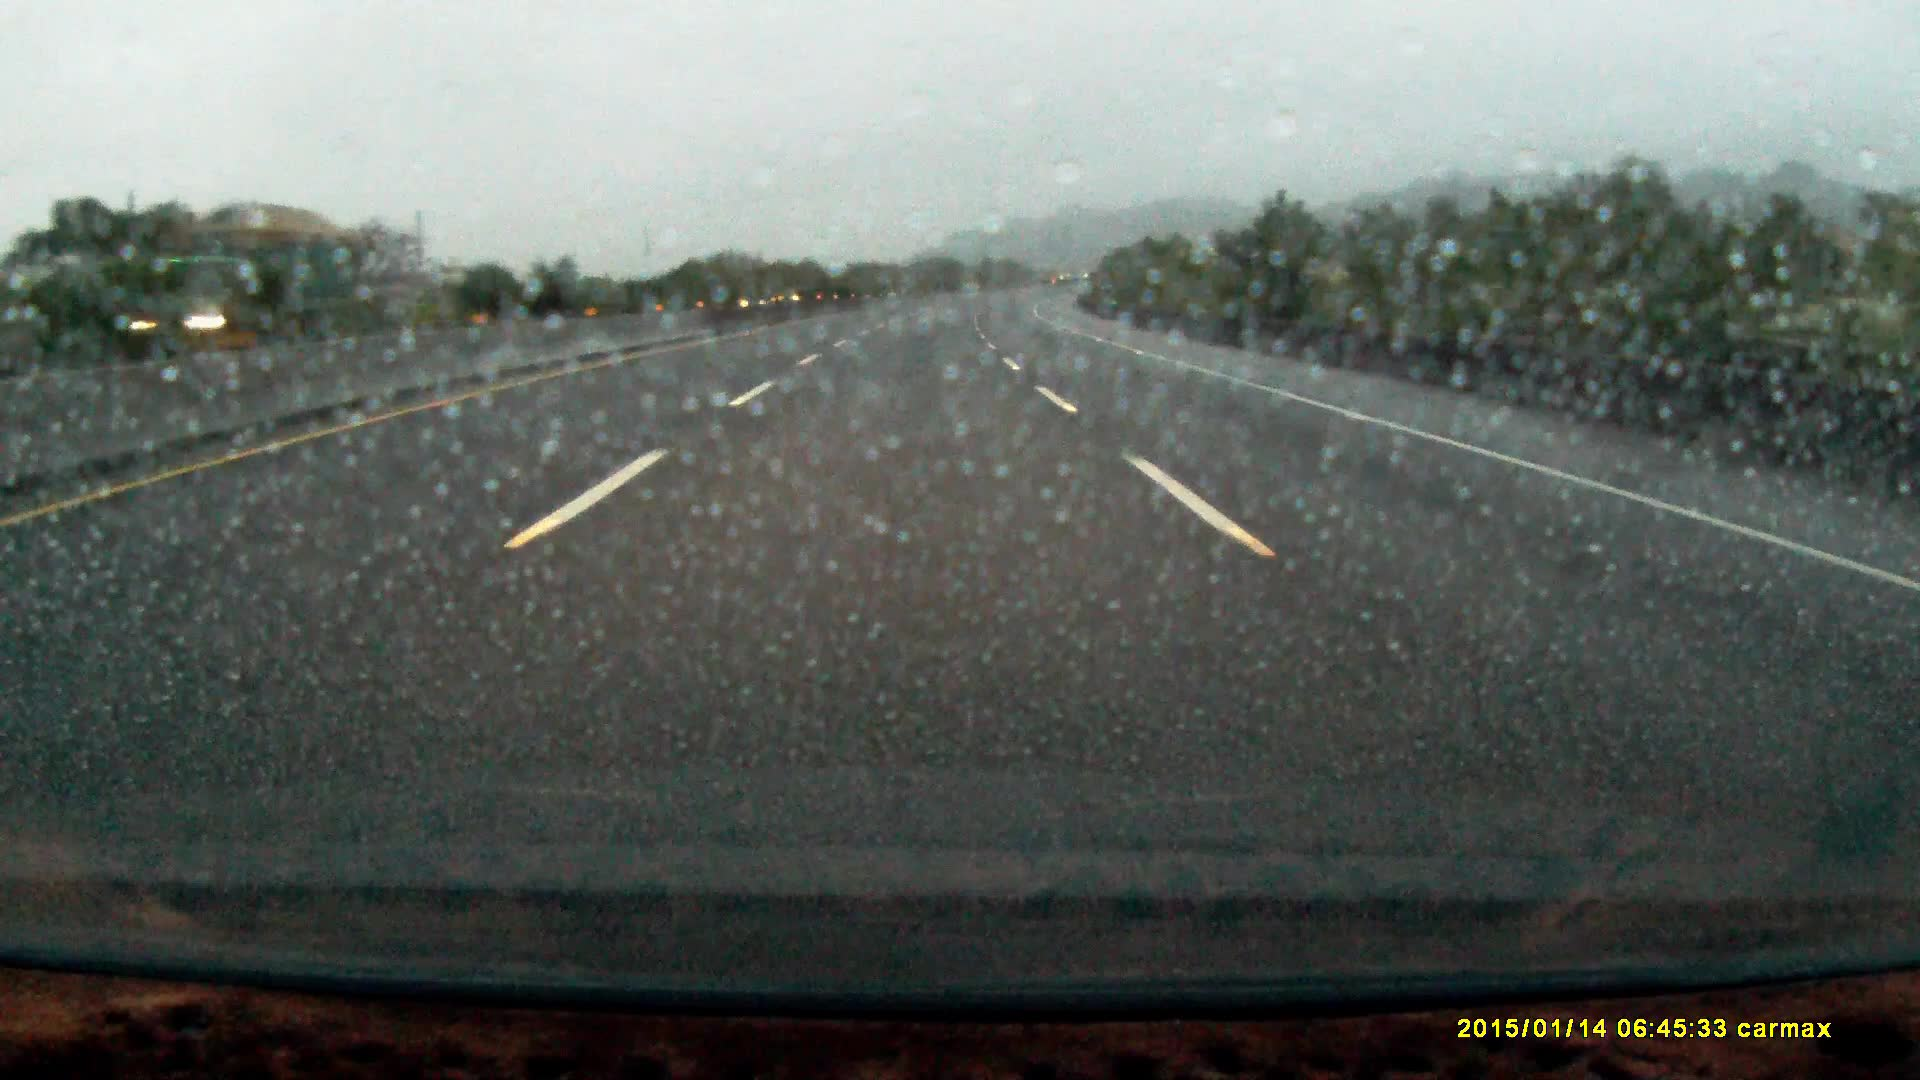vehicle: (124, 204, 361, 353)
